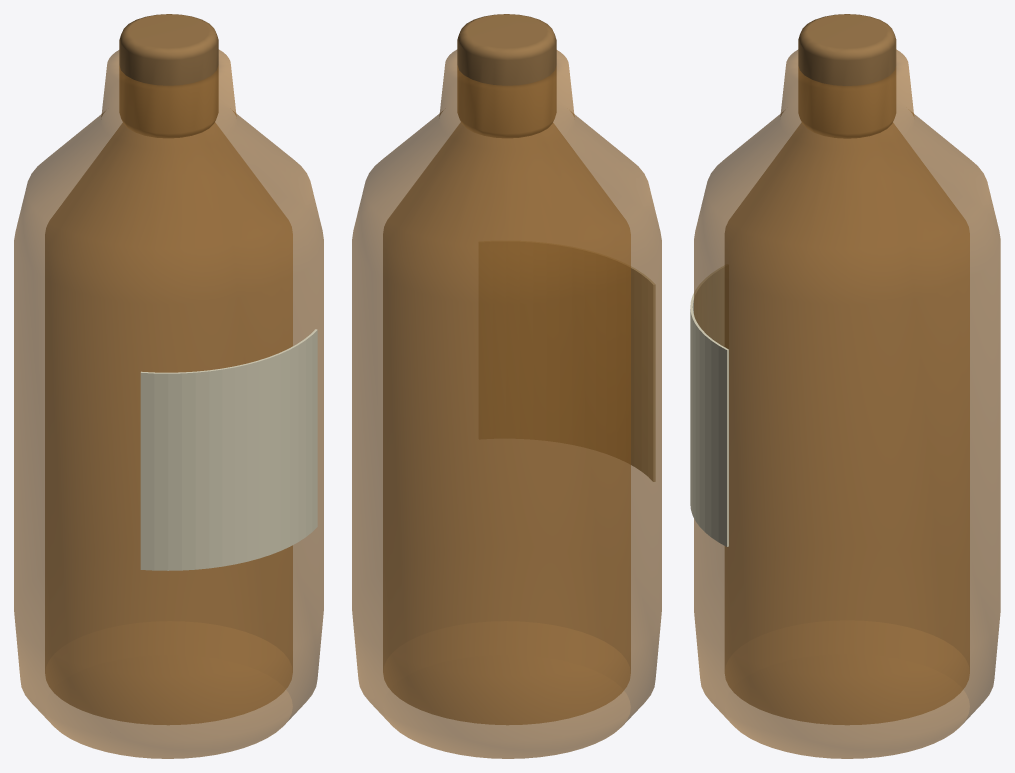
File: rpg-mansion-mystery-corked-bottle-01.glb
The picture shows the model from 3 angles, left to right: view 1: azimuth 30°, elevation 25°; view 2: azimuth 150°, elevation 25°; view 3: azimuth 270°, elevation 25°; orthographic projection.
Parts seen in each view (by area): view 1: rpg-mansion-mystery-corked-bottle-01; view 2: rpg-mansion-mystery-corked-bottle-01; view 3: rpg-mansion-mystery-corked-bottle-01.
Boxes of the visible parts, left/top/right/bottom form: rpg-mansion-mystery-corked-bottle-01: left=14, top=14, right=323, bottom=758; rpg-mansion-mystery-corked-bottle-01: left=352, top=14, right=661, bottom=758; rpg-mansion-mystery-corked-bottle-01: left=690, top=14, right=1000, bottom=758.
Bounding box in the file's own units: 0.05 × 0.12 × 0.05.
